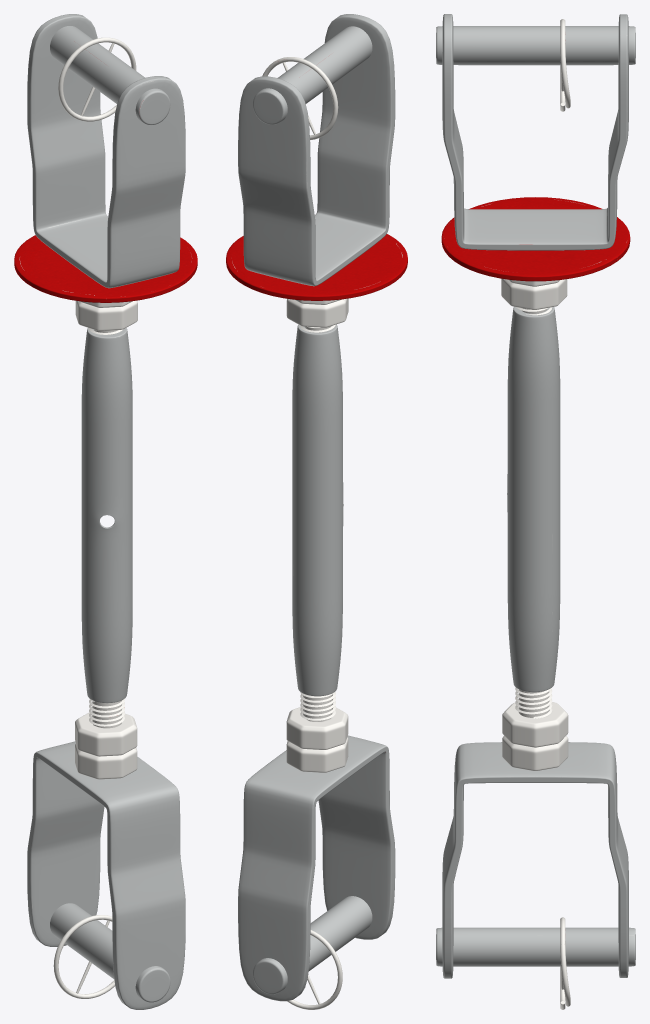
3 renders of one model, left to right at view 1: azimuth 30°, elevation 25°; view 2: azimuth 150°, elevation 25°; view 3: azimuth 270°, elevation 25°, orthographic. The views are drawn at different scales.
Visible parts, largest first — view 1: angle.001, bsae_pipe.001, screw.001, nuts_parts.001, red_ring.001, nuts_parts.003, nuts_parts.002; view 2: angle.001, bsae_pipe.001, screw.001, nuts_parts.001, red_ring.001, nuts_parts.003, nuts_parts.002; view 3: angle.001, bsae_pipe.001, screw.001, nuts_parts.001, red_ring.001, nuts_parts.003, nuts_parts.002.
Boxes of the visible parts, bbox=[...] form: angle.001: bbox=[27, 14, 185, 1009]; bsae_pipe.001: bbox=[81, 327, 132, 703]; screw.001: bbox=[50, 26, 170, 1002]; nuts_parts.001: bbox=[75, 300, 137, 779]; red_ring.001: bbox=[14, 235, 197, 302]; nuts_parts.003: bbox=[58, 37, 136, 121]; nuts_parts.002: bbox=[53, 915, 114, 998]; angle.001: bbox=[238, 14, 395, 1001]; bsae_pipe.001: bbox=[292, 324, 343, 696]; screw.001: bbox=[253, 26, 372, 994]; nuts_parts.001: bbox=[286, 298, 348, 772]; red_ring.001: bbox=[226, 234, 407, 300]; nuts_parts.003: bbox=[262, 57, 338, 140]; nuts_parts.002: bbox=[287, 930, 342, 1009]; angle.001: bbox=[442, 14, 628, 978]; bsae_pipe.001: bbox=[507, 306, 560, 692]; screw.001: bbox=[436, 26, 635, 966]; nuts_parts.001: bbox=[501, 278, 568, 770]; red_ring.001: bbox=[441, 197, 630, 281]; nuts_parts.003: bbox=[560, 19, 570, 111]; nuts_parts.002: bbox=[560, 917, 570, 1009].
Bounding box in the file's own units: 3.09 × 17.82 × 3.27.
Materials: 1 (1 with a texture image).
